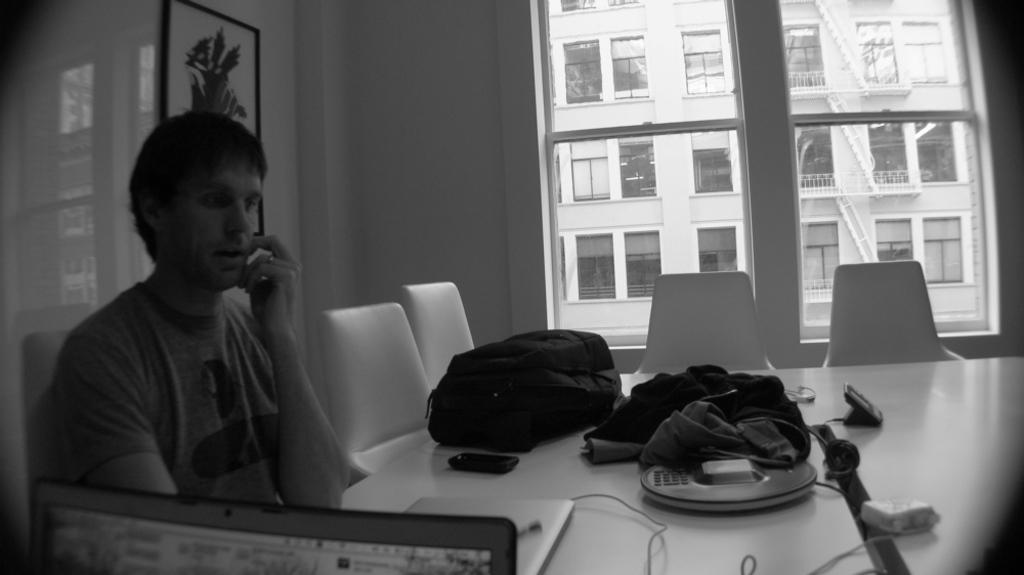Luggage-and-bags: (420, 319, 638, 459)
